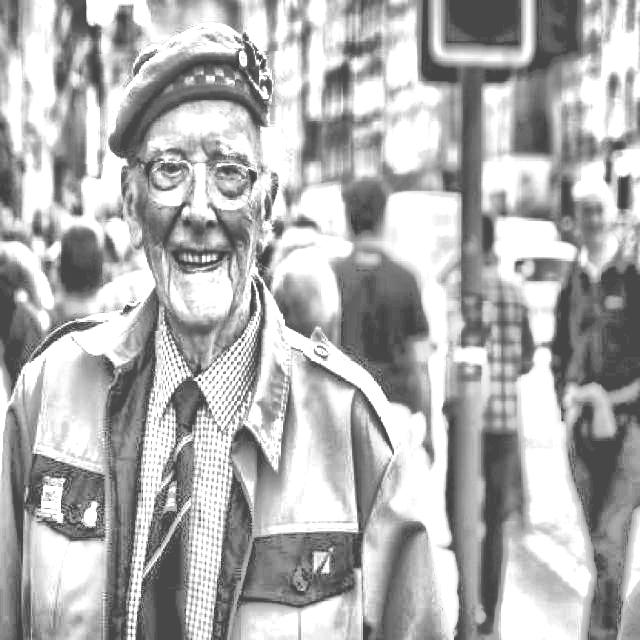happy: (74, 52, 284, 332)
